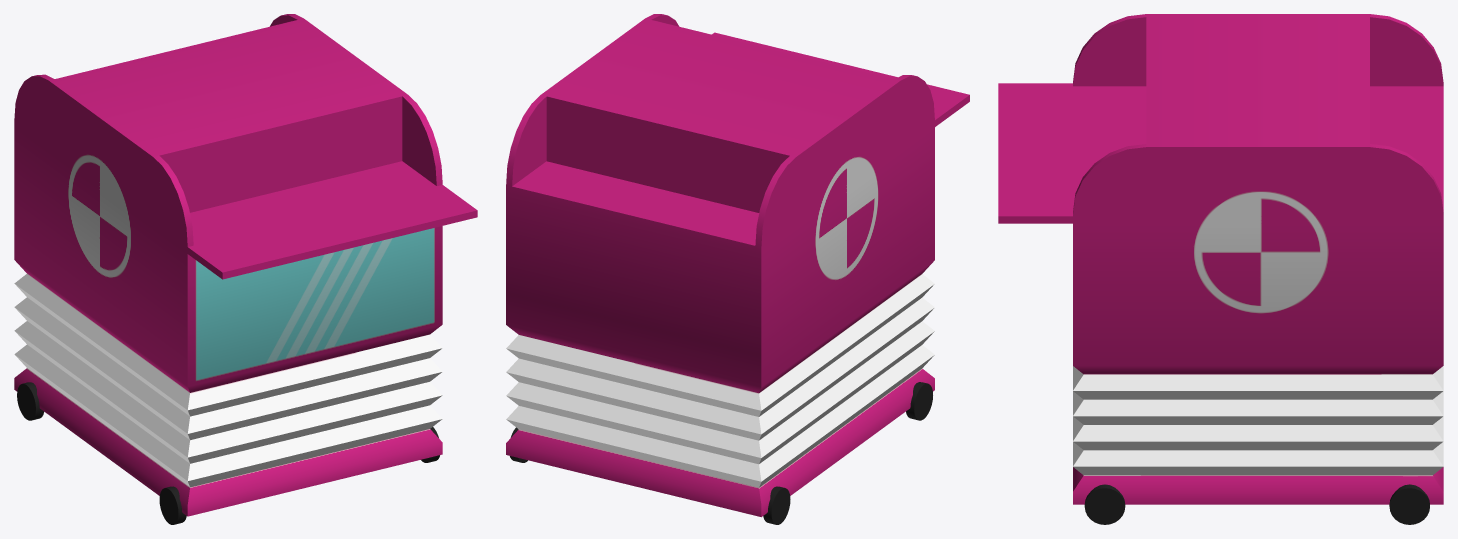
Rendered from panchos2.glb.
The picture shows the model from 3 angles, left to right: view 1: azimuth 30°, elevation 25°; view 2: azimuth 150°, elevation 25°; view 3: azimuth 270°, elevation 25°; orthographic projection. The views are drawn at different scales.
Visible parts, largest first — view 1: mesh_panchos2; view 2: mesh_panchos2; view 3: mesh_panchos2.
Part boxes in pixels (left/top/right/bottom): mesh_panchos2: left=14, top=14, right=477, bottom=524; mesh_panchos2: left=506, top=14, right=969, bottom=524; mesh_panchos2: left=998, top=14, right=1443, bottom=524.
Size of the model in its own units: 0.0219 by 0.028 by 0.0301.
1 material, 1 textured.
